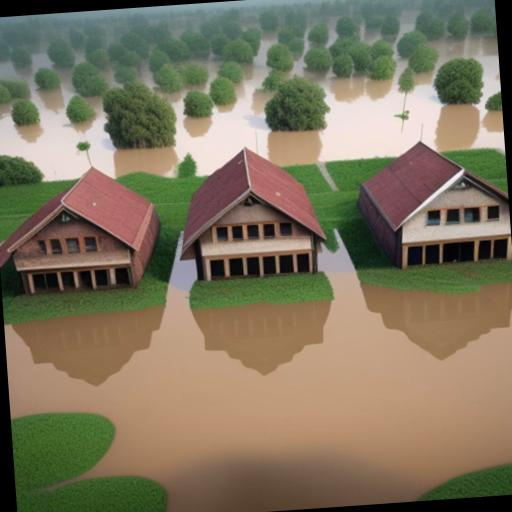flood: (4, 243, 512, 512), (0, 34, 505, 180), (0, 51, 50, 88), (402, 12, 416, 31)
house: (168, 136, 345, 298), (0, 157, 173, 307), (344, 127, 512, 274)
